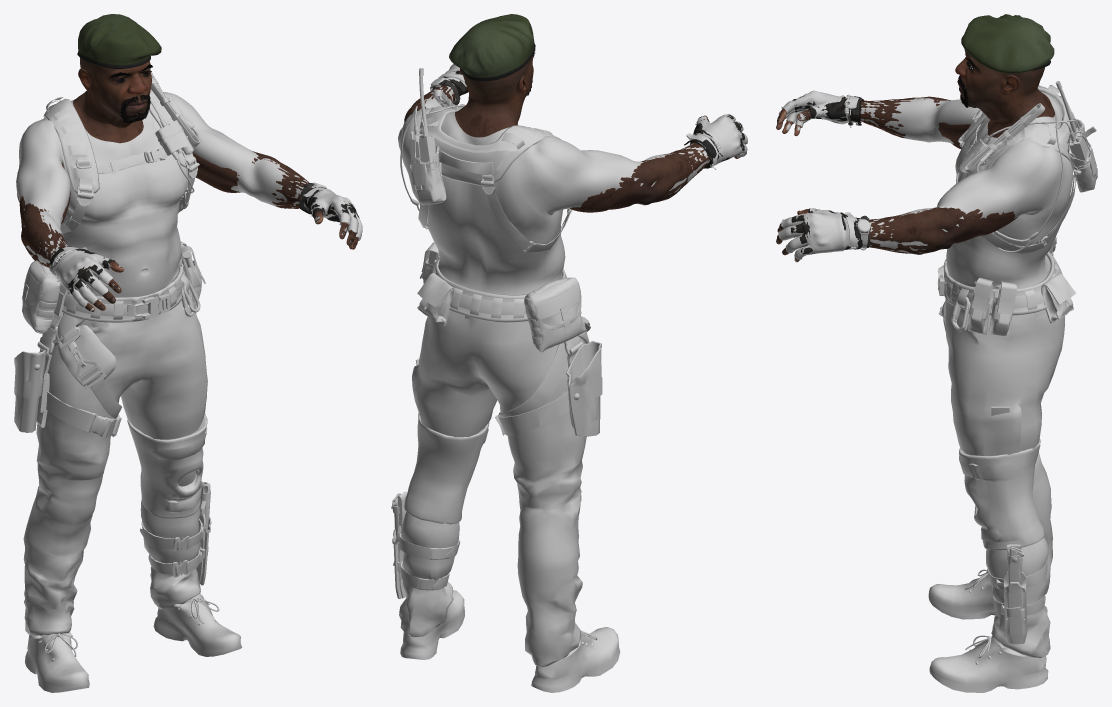
Rendered from c_sat_usa_pl_brie_brioche_EFT.fbx.
The picture shows the model from 3 angles, left to right: view 1: azimuth 30°, elevation 25°; view 2: azimuth 150°, elevation 25°; view 3: azimuth 270°, elevation 25°; orthographic projection.
Parts seen in each view (by area): view 1: c_sat_usa_pl_brie_brioche_Lower, c_sat_usa_pl_brie_brioche_Upper, c_sat_usa_pl_brie_brioche_Head, c_sat_usa_pl_brie_brioche_Hands; view 2: c_sat_usa_pl_brie_brioche_Lower, c_sat_usa_pl_brie_brioche_Upper, c_sat_usa_pl_brie_brioche_Head, c_sat_usa_pl_brie_brioche_Hands; view 3: c_sat_usa_pl_brie_brioche_Lower, c_sat_usa_pl_brie_brioche_Upper, c_sat_usa_pl_brie_brioche_Head, c_sat_usa_pl_brie_brioche_Hands.
Part boxes in pixels (left/top/right/bottom): c_sat_usa_pl_brie_brioche_Lower: left=14, top=263, right=242, bottom=692; c_sat_usa_pl_brie_brioche_Upper: left=16, top=72, right=362, bottom=333; c_sat_usa_pl_brie_brioche_Head: left=73, top=14, right=161, bottom=143; c_sat_usa_pl_brie_brioche_Hands: left=17, top=151, right=359, bottom=311; c_sat_usa_pl_brie_brioche_Lower: left=391, top=258, right=620, bottom=692; c_sat_usa_pl_brie_brioche_Upper: left=398, top=64, right=747, bottom=352; c_sat_usa_pl_brie_brioche_Head: left=449, top=14, right=535, bottom=137; c_sat_usa_pl_brie_brioche_Hands: left=404, top=70, right=744, bottom=212; c_sat_usa_pl_brie_brioche_Lower: left=928, top=251, right=1064, bottom=692; c_sat_usa_pl_brie_brioche_Upper: left=778, top=81, right=1097, bottom=337; c_sat_usa_pl_brie_brioche_Head: left=955, top=14, right=1054, bottom=137; c_sat_usa_pl_brie_brioche_Hands: left=776, top=95, right=1018, bottom=262.
Bounding box in the file's own units: 0.8796 × 1.84 × 0.8515.
